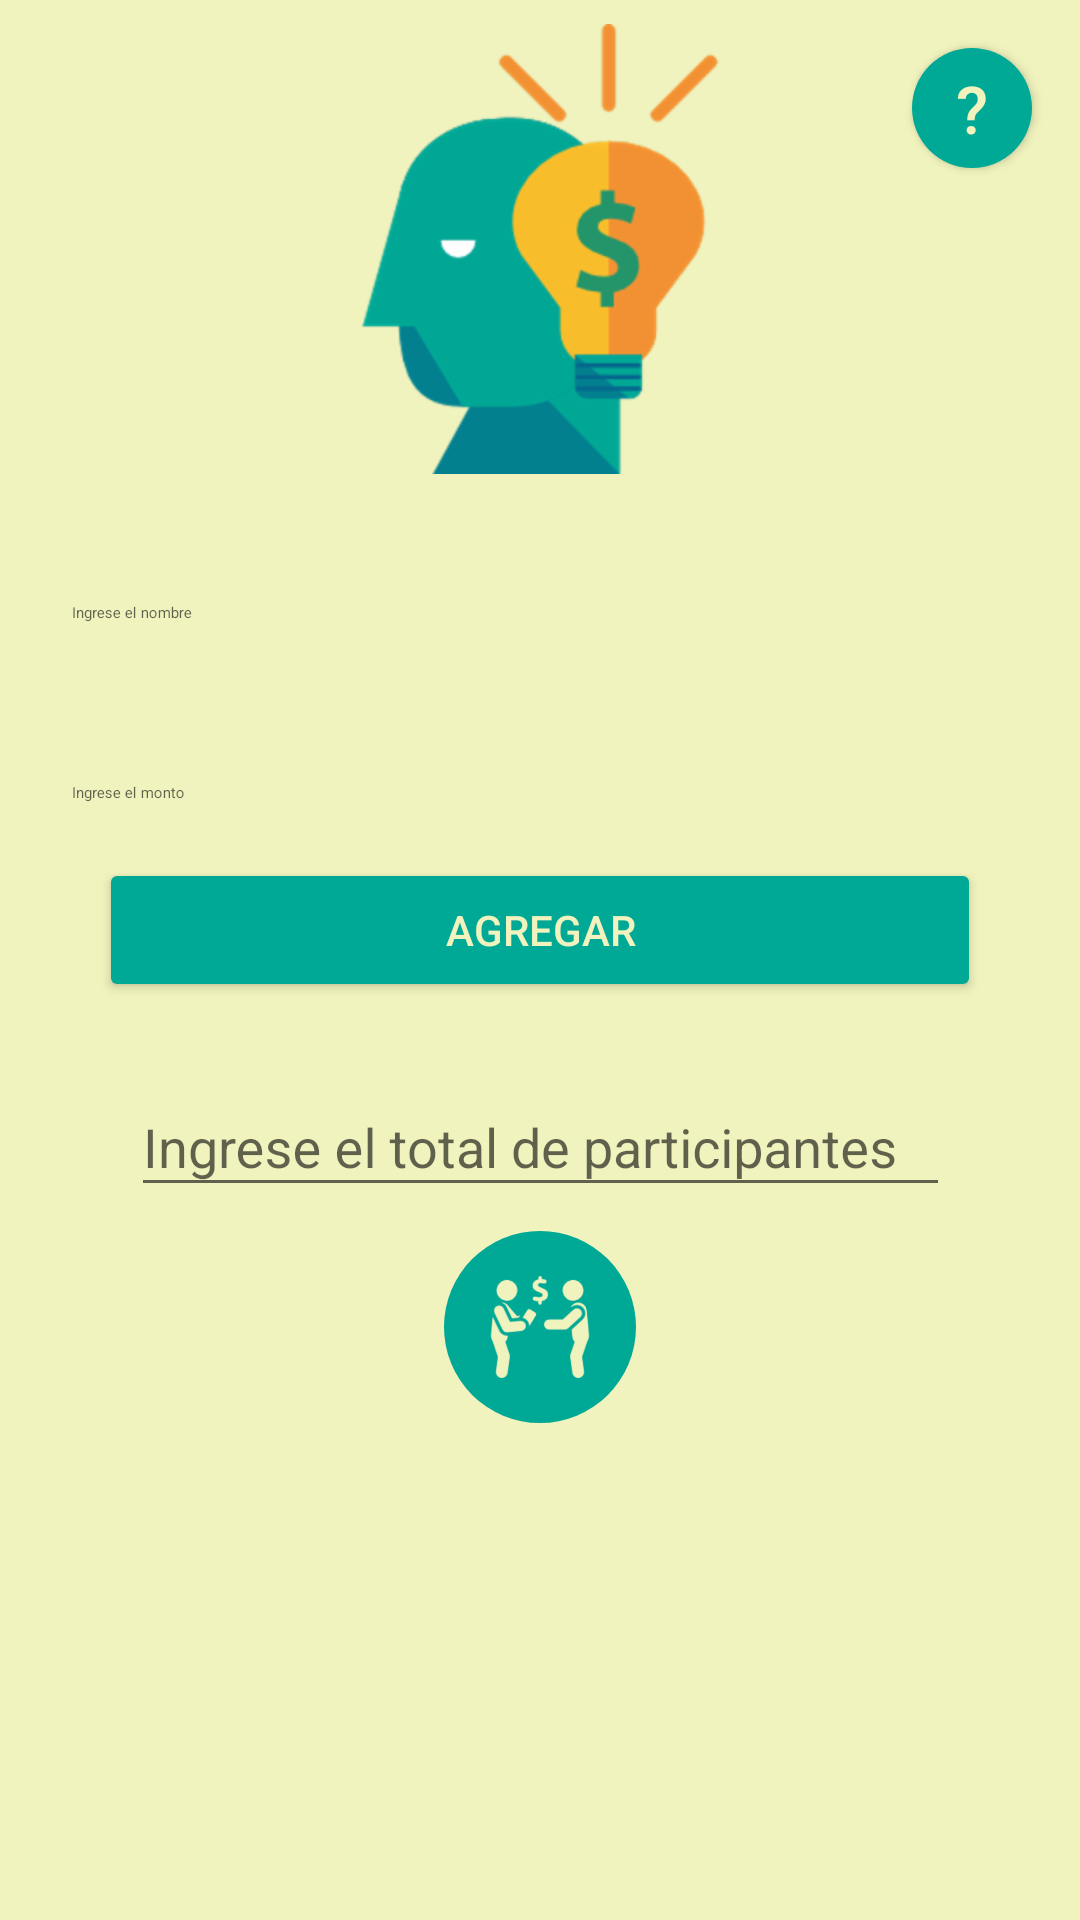

Icons on this 1080 × 1920 Android screen, each with the point to tap as (x=x, y=y):
people trading: (x=540, y=1327)
